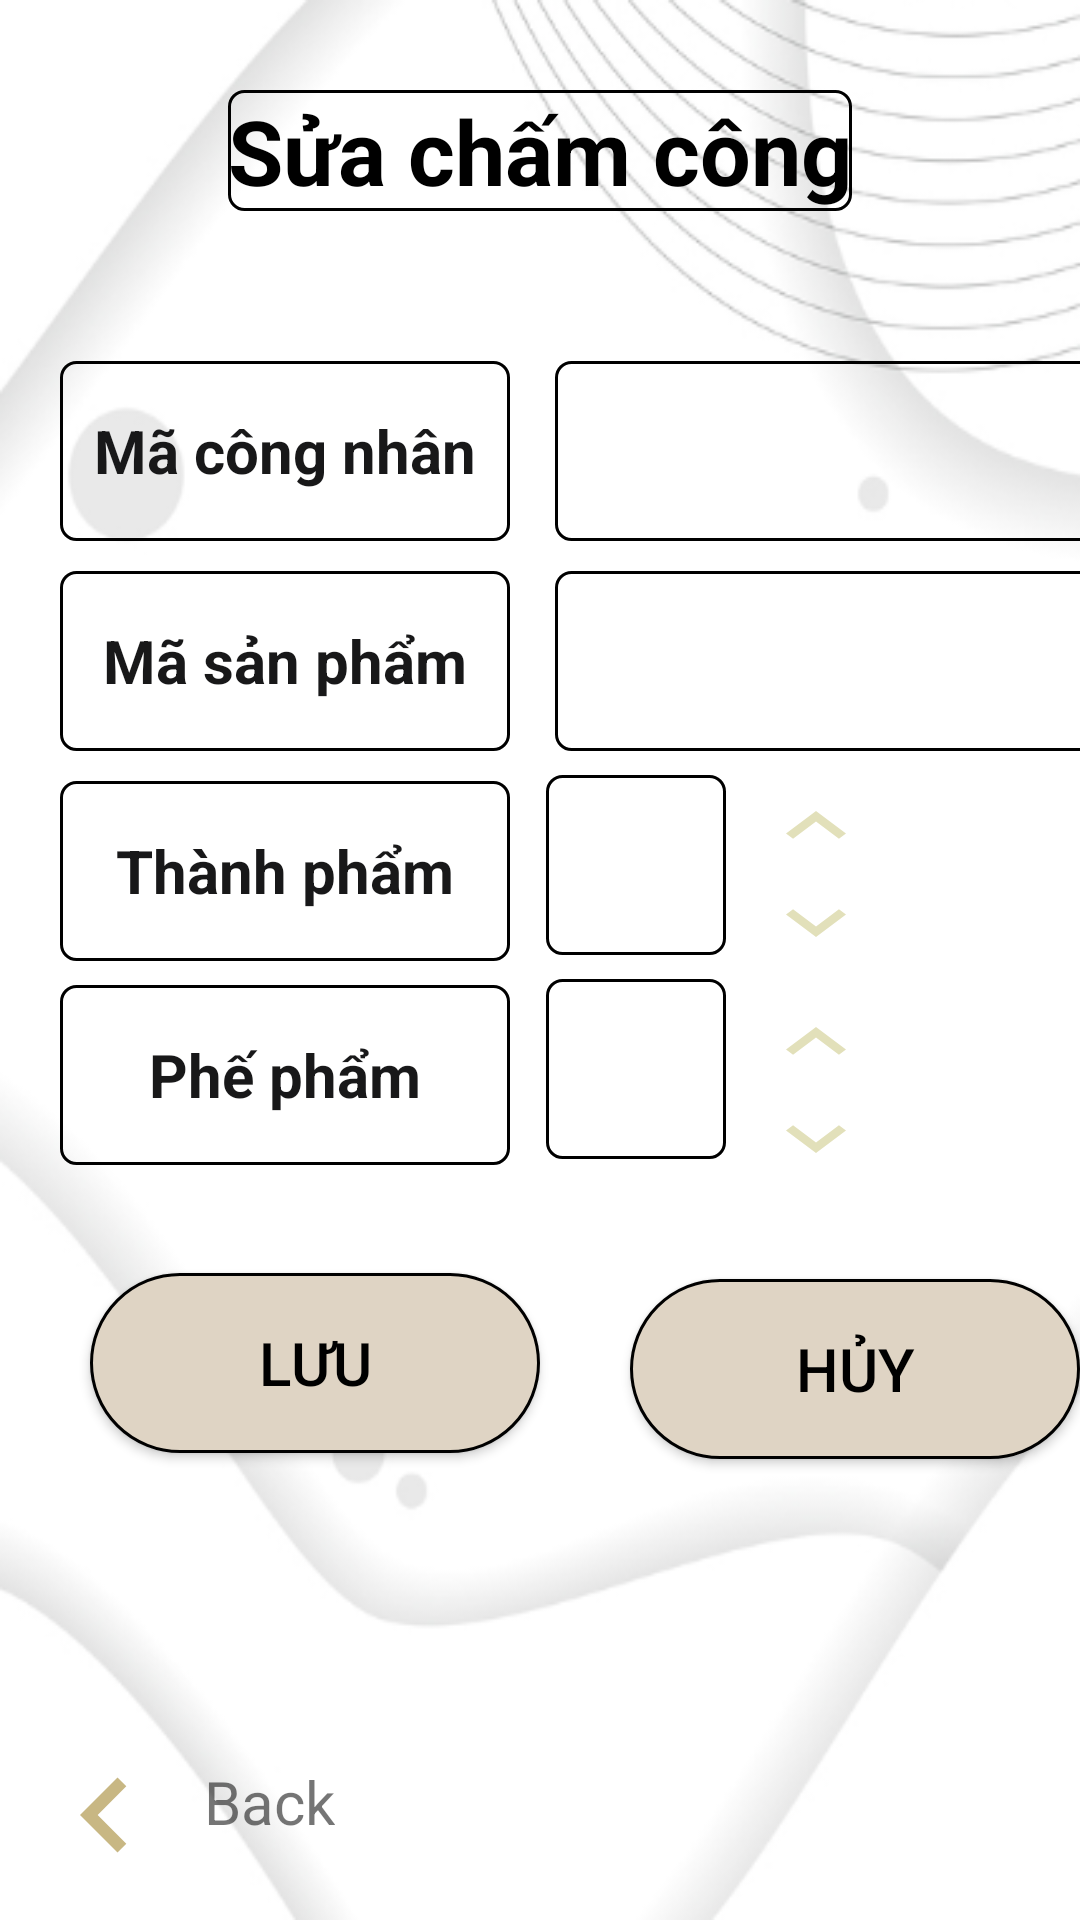

Screen size 1080px×1920px. Icon name, then its box in pixels as (x1, y1, x2, y2):
chevron left: (80, 1777, 126, 1853)
keyboard down: (786, 909, 846, 937), (786, 1125, 846, 1153)
